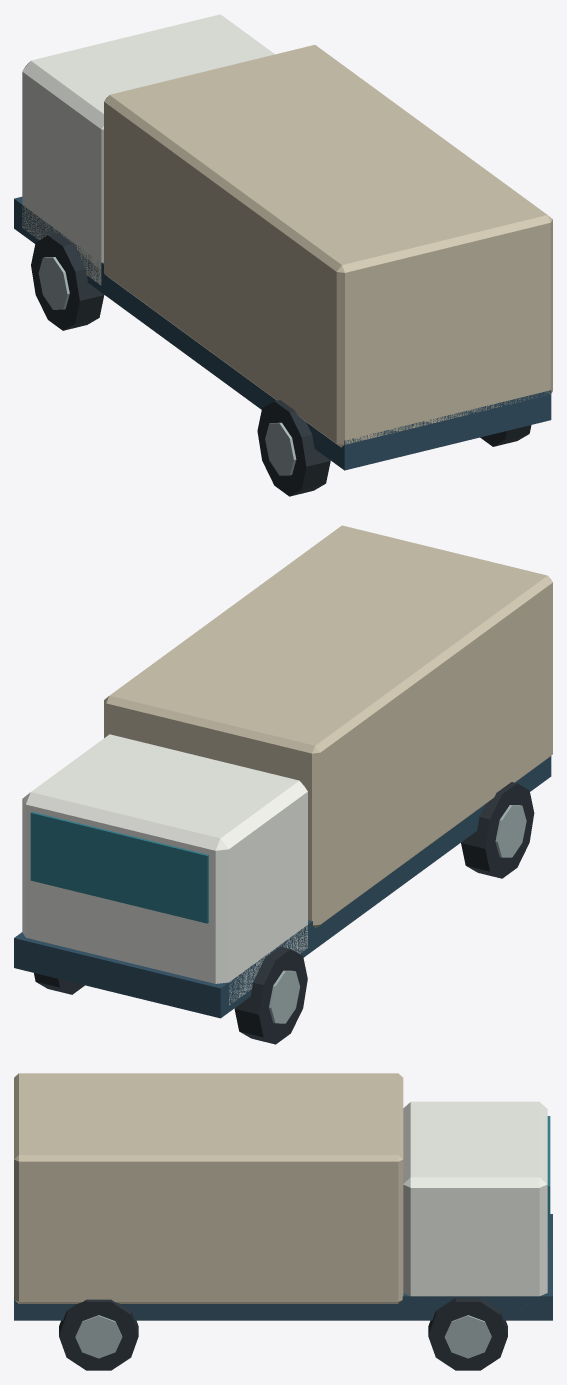
File: truck.glb
3 renders of one model, top to bottom at view 1: azimuth 30°, elevation 25°; view 2: azimuth 150°, elevation 25°; view 3: azimuth 270°, elevation 25°, orthographic. The views are drawn at different scales.
Parts seen in each view (by area): view 1: truck; view 2: truck; view 3: truck.
Boxes of the visible parts, x1,y1,x2,y2 form: truck: [14, 14, 552, 496]; truck: [14, 525, 552, 1044]; truck: [14, 1073, 552, 1370].
Bounding box in the file's own units: 2.2 × 2.34 × 5.4.
